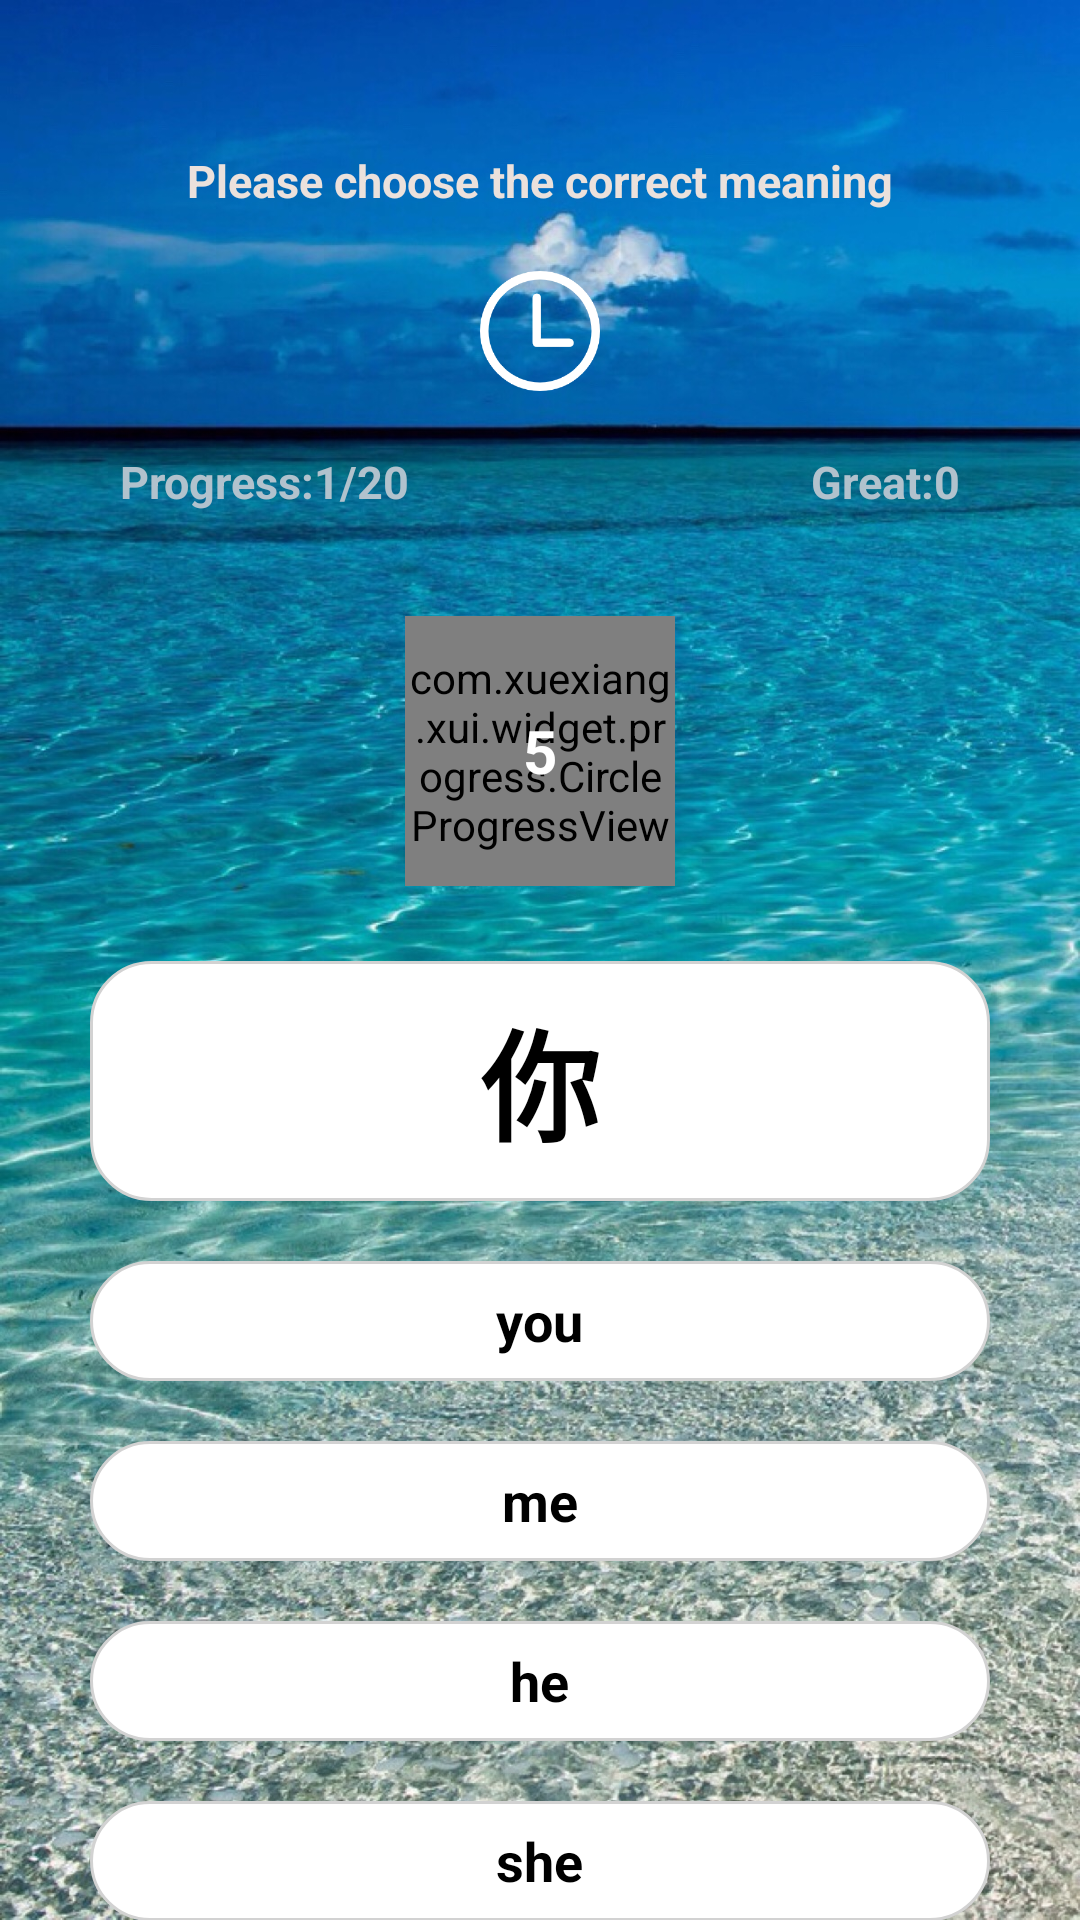

Icons on this 1080*1920 Android screen, each with the point to tap as (x,y):
clock: (540,331)
